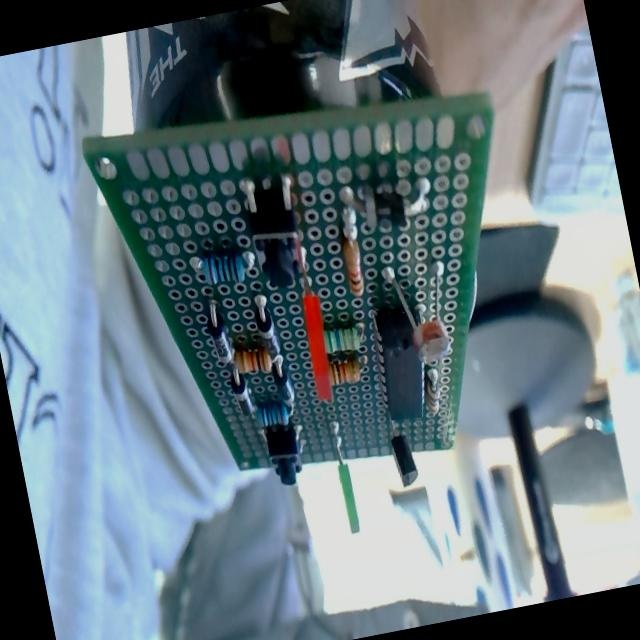IC: (362, 318, 432, 422)
cds: (388, 254, 463, 368)
diode: (332, 158, 442, 236), (202, 294, 240, 364), (246, 291, 284, 353), (227, 378, 257, 423), (270, 377, 298, 403)
led: (284, 264, 342, 401), (315, 416, 372, 540)
resistor: (187, 236, 258, 295), (328, 221, 370, 305), (321, 318, 370, 364), (226, 348, 286, 380), (325, 352, 367, 397), (250, 399, 300, 433), (424, 371, 450, 426)
switch: (230, 164, 312, 294), (256, 424, 316, 490)
transistor: (377, 425, 423, 494)
